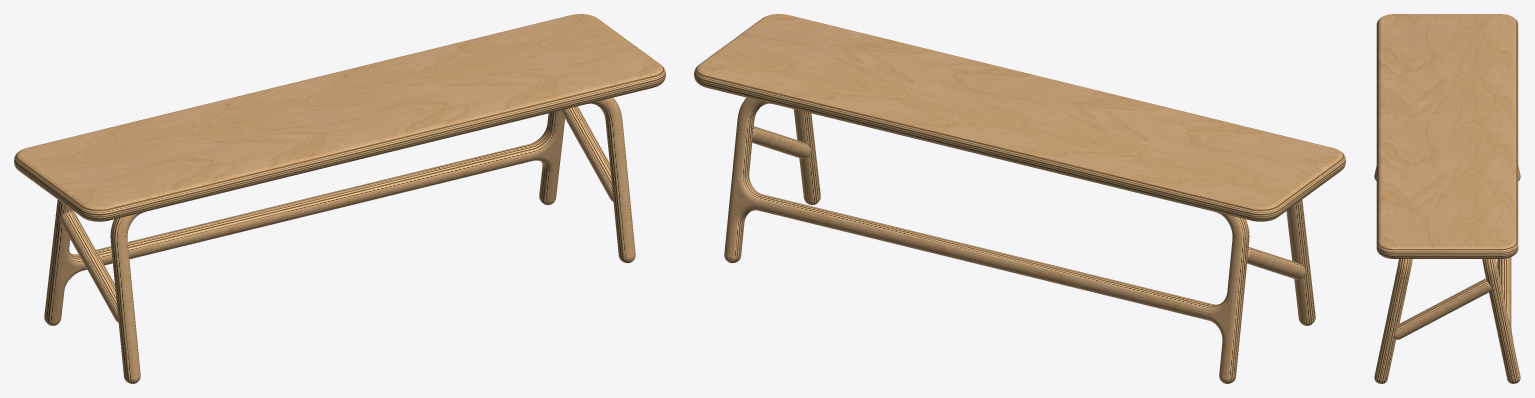
Rendered from bench.glb.
3 views of the same model, side by side, from view 1: azimuth 30°, elevation 25°; view 2: azimuth 150°, elevation 25°; view 3: azimuth 270°, elevation 25° (orthographic). The views are drawn at different scales.
Parts seen in each view (by area): view 1: Bench: top_upper, Bench: back_frame, Bench: front_frame, Bench: top_lower, Bench: end_brace_L, Bench: end_brace_R; view 2: Bench: top_upper, Bench: back_frame, Bench: top_lower, Bench: front_frame, Bench: end_brace_L, Bench: end_brace_R; view 3: Bench: top_upper, Bench: back_frame, Bench: front_frame, Bench: end_brace_R, Bench: top_lower.
Part boxes in pixels (bbox=[...]): Bench: top_upper: bbox=[14, 14, 665, 216]; Bench: back_frame: bbox=[44, 110, 565, 325]; Bench: front_frame: bbox=[110, 97, 635, 383]; Bench: top_lower: bbox=[14, 75, 665, 221]; Bench: end_brace_L: bbox=[60, 211, 118, 322]; Bench: end_brace_R: bbox=[561, 106, 613, 201]; Bench: top_upper: bbox=[694, 14, 1345, 216]; Bench: back_frame: bbox=[724, 97, 1249, 383]; Bench: top_lower: bbox=[694, 75, 1345, 221]; Bench: front_frame: bbox=[793, 109, 1315, 325]; Bench: end_brace_L: bbox=[1247, 247, 1305, 279]; Bench: end_brace_R: bbox=[752, 126, 810, 158]; Bench: top_upper: bbox=[1376, 14, 1518, 254]; Bench: back_frame: bbox=[1482, 166, 1520, 383]; Bench: front_frame: bbox=[1374, 166, 1412, 383]; Bench: end_brace_R: bbox=[1394, 278, 1490, 339]; Bench: top_lower: bbox=[1376, 248, 1518, 258].
Size of the model in its own units: 1.5 by 0.4505 by 0.3915.
2 materials, 2 textured.
